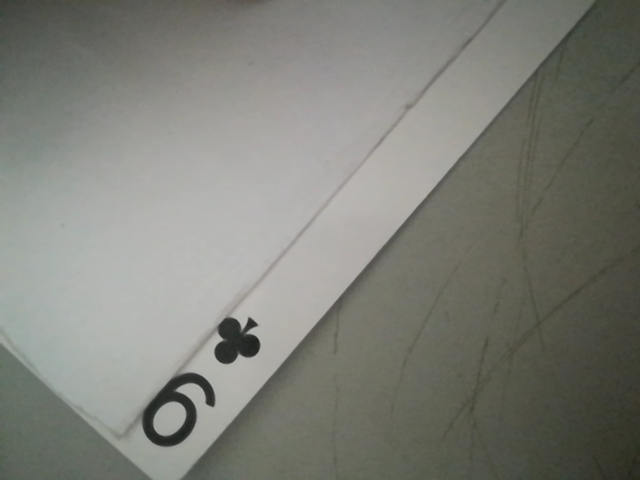mh 9: (122, 303, 276, 474)
